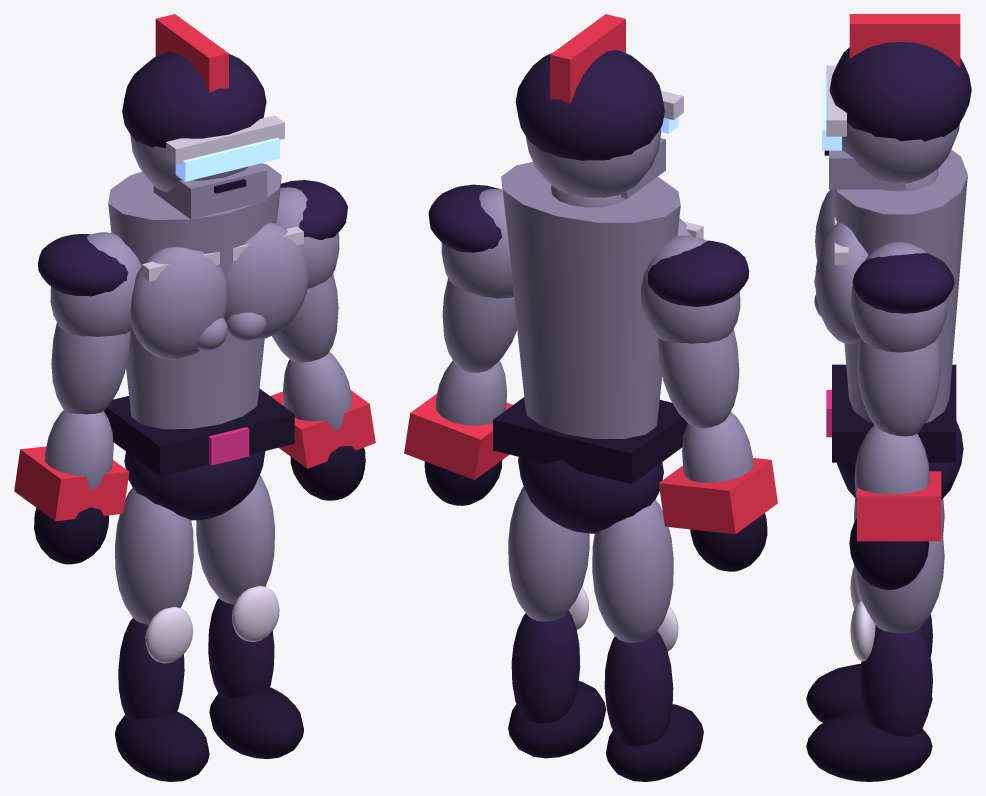
File: starter.glb
3 renders of one model, left to right at view 1: azimuth 30°, elevation 25°; view 2: azimuth 150°, elevation 25°; view 3: azimuth 270°, elevation 25°, orthographic. The views are drawn at different scales.
Visible parts, largest first — view 1: Torso, Helmet, Pectoral_L, Thigh_L, Belt, Thigh_R, Pectoral_R, Pelvis, Bicep_L, Boot_L, Boot_R, Cosmetic_Bracer_L (+22 smaller); view 2: Torso, Helmet, Thigh_L, Belt, Thigh_R, Pelvis, Shin_L, Shin_R, Cosmetic_Bracer_L, Bicep_L, Bicep_R, ShoulderPlate_L (+14 smaller); view 3: Torso, Helmet, Shin_R, Bicep_R, Boot_R, ShoulderPlate_R, Cosmetic_Bracer_R, Belt, Deltoid_R, Forearm_R, Face, Thigh_R (+12 smaller).
Part boxes in pixels (x1,y1,x2,y2): Torso: (108,163,281,429); Helmet: (122,52,266,148); Pectoral_L: (130,247,227,359); Thigh_L: (115,487,193,624); Belt: (104,388,294,476); Thigh_R: (196,475,274,604); Pectoral_R: (224,222,309,340); Pelvis: (124,451,265,520); Bicep_L: (51,323,130,414); Boot_L: (115,711,209,781); Boot_R: (209,687,303,759); Cosmetic_Bracer_L: (14,446,129,521); Torso: (501,162,680,438); Helmet: (515,50,664,160); Thigh_L: (592,499,673,642); Belt: (493,397,687,484); Thigh_R: (508,486,589,621); Pelvis: (518,457,663,533); Shin_L: (604,631,673,746); Shin_R: (511,610,580,723); Cosmetic_Bracer_L: (658,458,777,534); Bicep_L: (657,329,739,428); Bicep_R: (442,278,517,372); ShoulderPlate_L: (647,240,749,306); Torso: (832,149,967,422); Helmet: (829,42,971,141); Shin_R: (860,625,932,736); Bicep_R: (857,336,941,436); Boot_R: (806,711,932,781); ShoulderPlate_R: (852,253,954,313); Cosmetic_Bracer_R: (857,471,941,541); Belt: (832,364,956,462); Deltoid_R: (850,241,947,352); Forearm_R: (854,425,929,498); Face: (842,123,959,183); Thigh_R: (854,530,944,633).
Bounding box in the file's own units: 1.35 × 2.85 × 0.5823.
